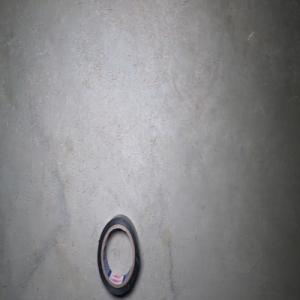Tape: (97, 214, 140, 297)
